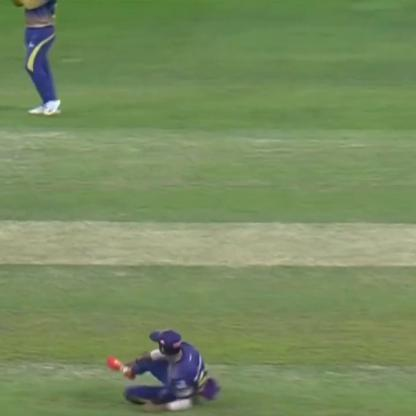ball: (119, 365, 134, 383)
